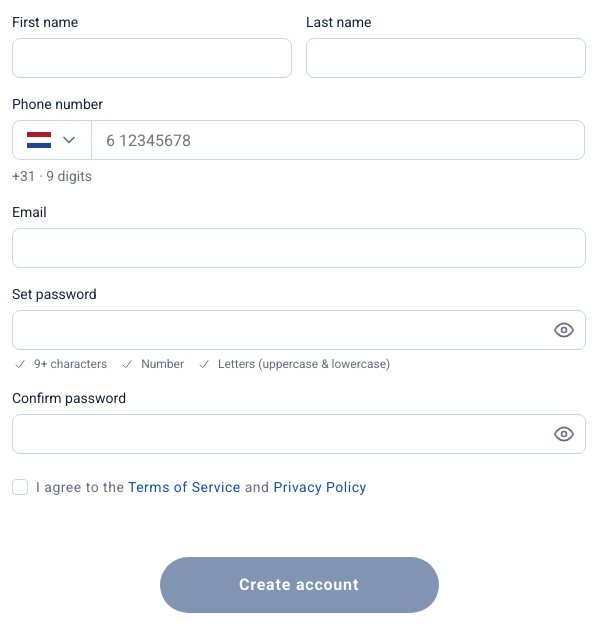
Scenario: SignUpForm › enables the submit button once every field is filled in and the terms are accepted
Type "Ada" into the field labelled "First name" at [152, 58], box [12,38,292,78]
Type "Lovelace" into the field labelled "Last name" at [446, 58], box [306,38,586,78]
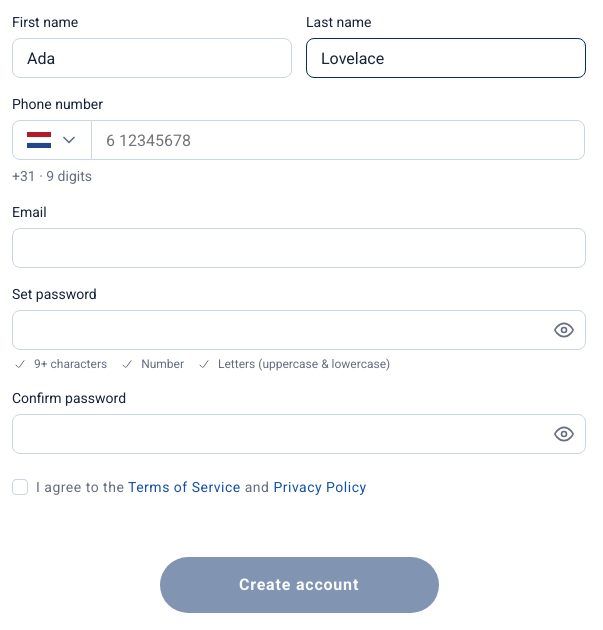
Type "612345678" into the field labelled "Phone number" at [338, 140], box [91,120,585,160]
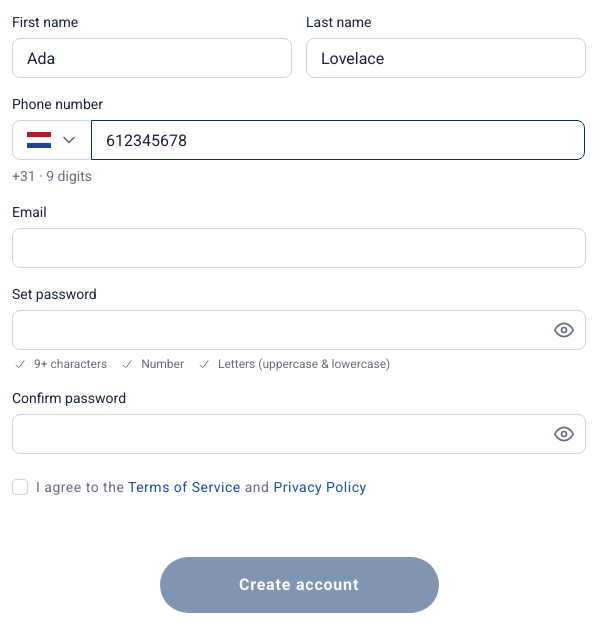
Type "ada@example.com" into the field labelled "Email" at [299, 248], box [12,228,586,268]
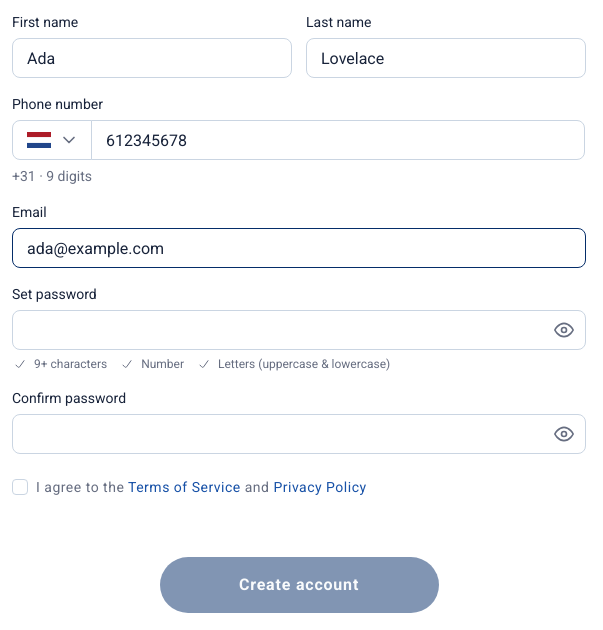
Type "Password1" into the password field labelled "Set password" at [299, 330], box [12,310,586,350]
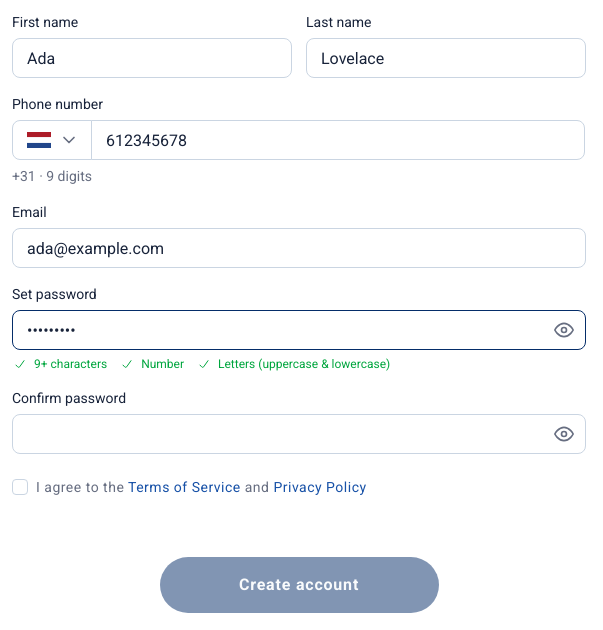
Type "Password1" into the password field labelled "Confirm password" at [299, 434], box [12,414,586,454]
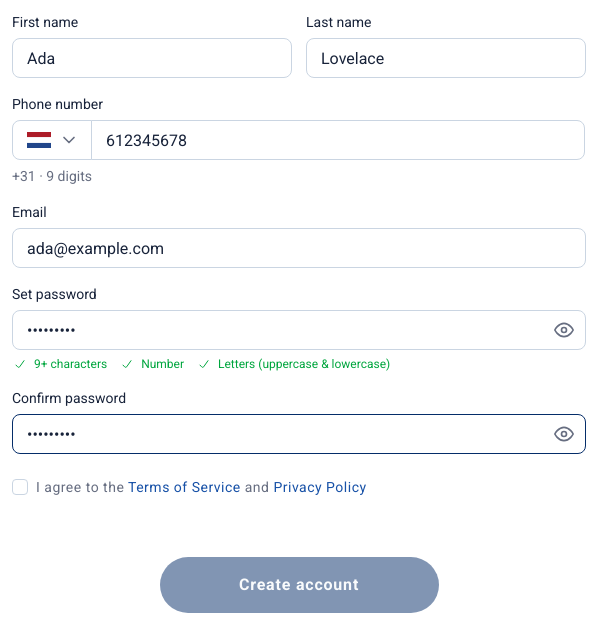
Click the checkbox labelled "I agree to the Terms of Service and Privacy Policy" at [189, 487], box [12,479,367,495]
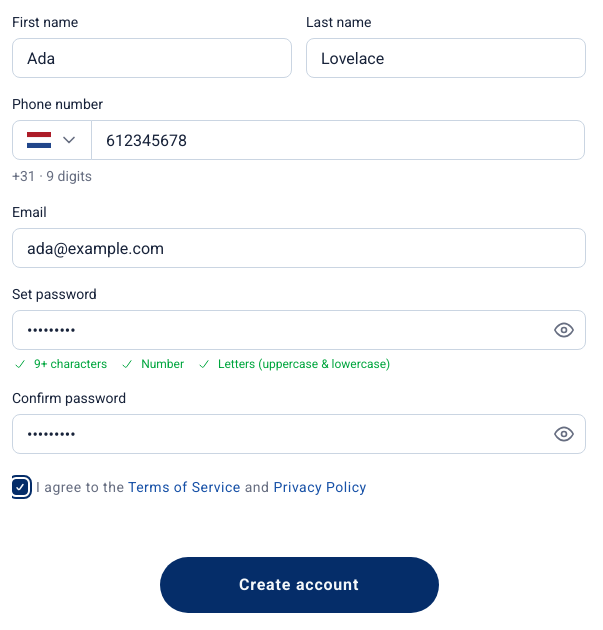
expect the button "Create account" is enabled: met, box [160,557,438,613]
